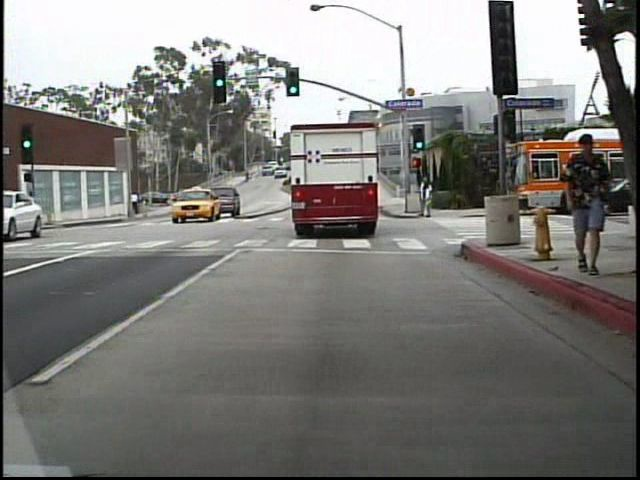person: (561, 127, 603, 284), (413, 176, 437, 222), (24, 189, 41, 231), (128, 187, 144, 220)
